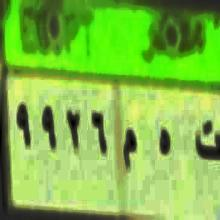2: (66, 99, 82, 161)
6: (90, 105, 109, 168)
9: (39, 101, 58, 154), (15, 97, 31, 155)
haa: (155, 123, 173, 166)
meem: (120, 122, 138, 177)
taa: (192, 112, 220, 168)
